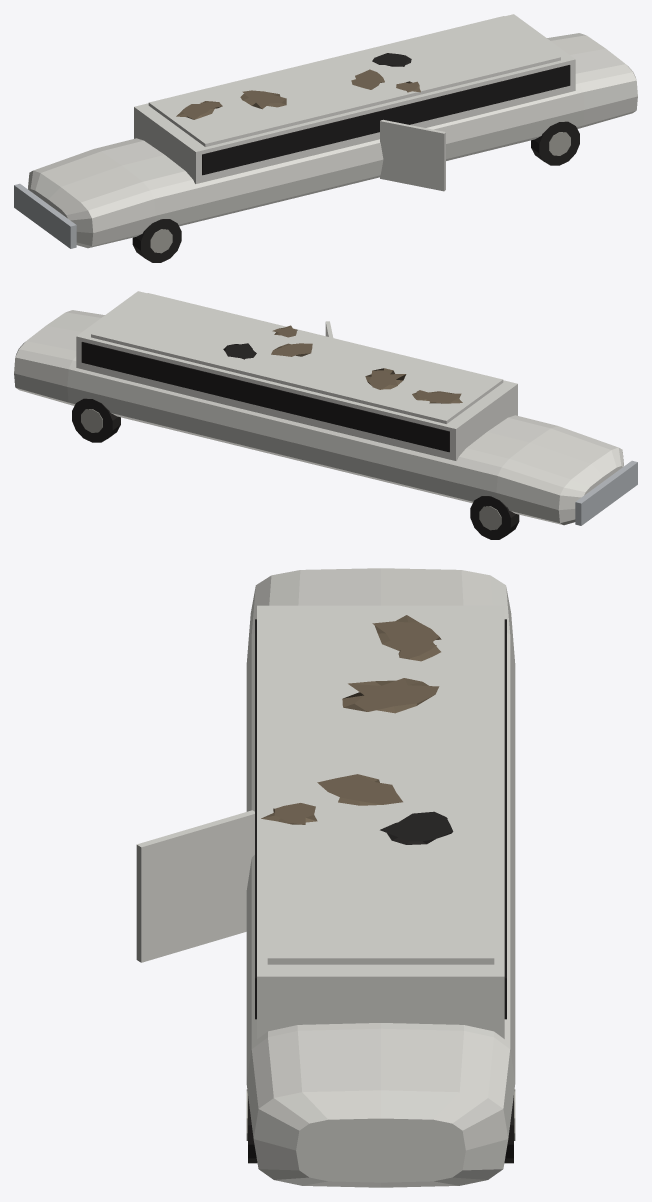
The model's file is strip_limo.glb.
The picture shows the model from 3 angles, top to bottom: view 1: azimuth 30°, elevation 25°; view 2: azimuth 150°, elevation 25°; view 3: azimuth 270°, elevation 25°; orthographic projection. The views are drawn at different scales.
Parts seen in each view (by area): view 1: strip_limo; view 2: strip_limo; view 3: strip_limo.
Boxes of the visible parts, x1,y1,x2,y2 form: strip_limo: (14,14,637,262); strip_limo: (14,291,637,539); strip_limo: (136,568,515,1187).
Bounding box in the file's own units: 9.35 × 1.63 × 2.68.
